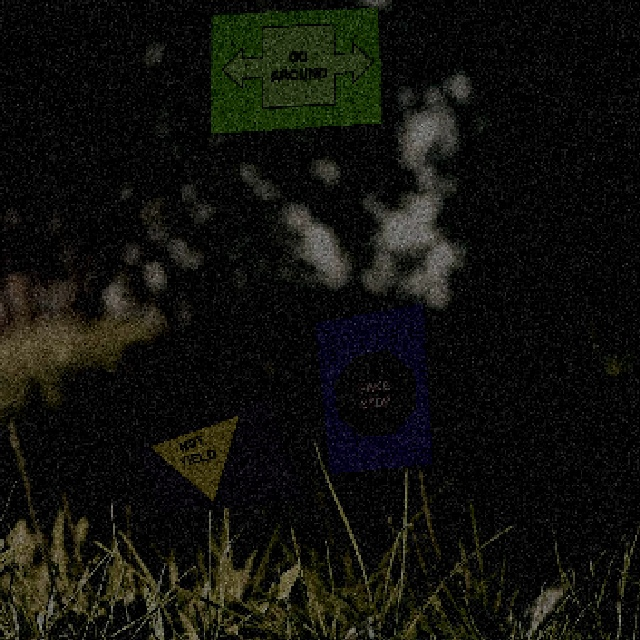FAKE_STOP: (328, 345, 422, 441)
GO_AROUND: (218, 17, 373, 112)
NOT_YIELD: (145, 409, 269, 512)
